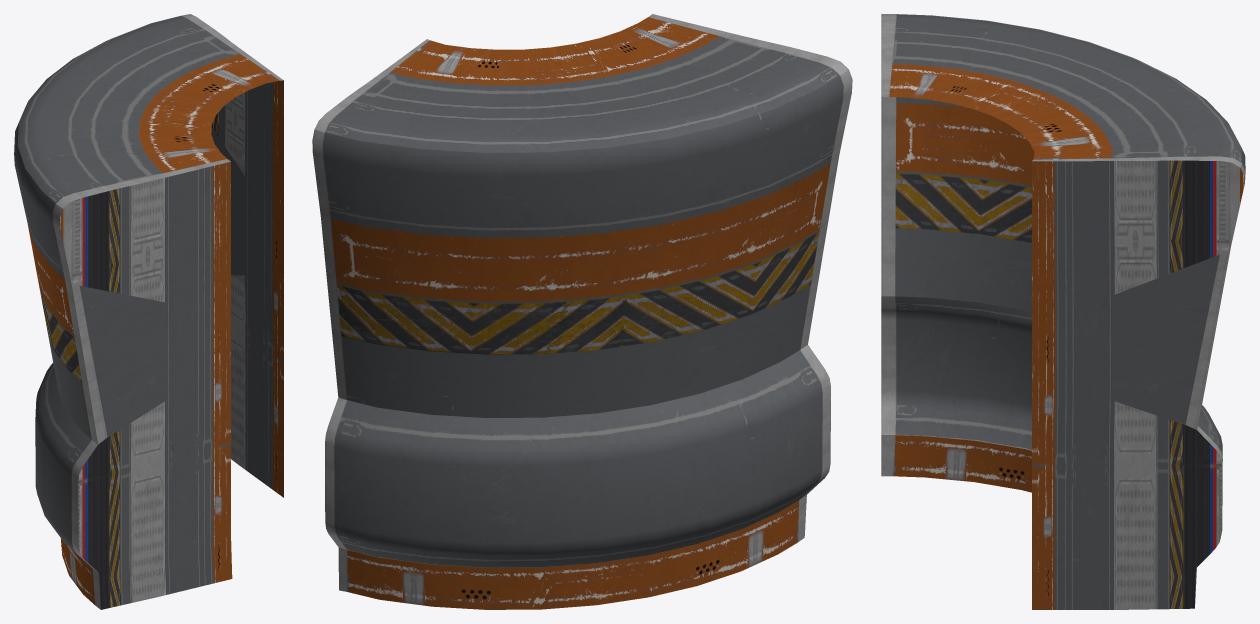
Rendered from wall_IN_c.FBX.
The picture shows the model from 3 angles, left to right: view 1: azimuth 30°, elevation 25°; view 2: azimuth 150°, elevation 25°; view 3: azimuth 270°, elevation 25°; orthographic projection. The views are drawn at different scales.
Visible parts, largest first — view 1: Object016; view 2: Object016; view 3: Object016.
Boxes of the visible parts, x1,y1,x2,y2 form: Object016: (14, 14, 283, 609); Object016: (312, 14, 852, 609); Object016: (881, 14, 1245, 609).
Bounding box in the file's own units: 221 × 300 × 221.
Materials: 1 (1 with a texture image).
